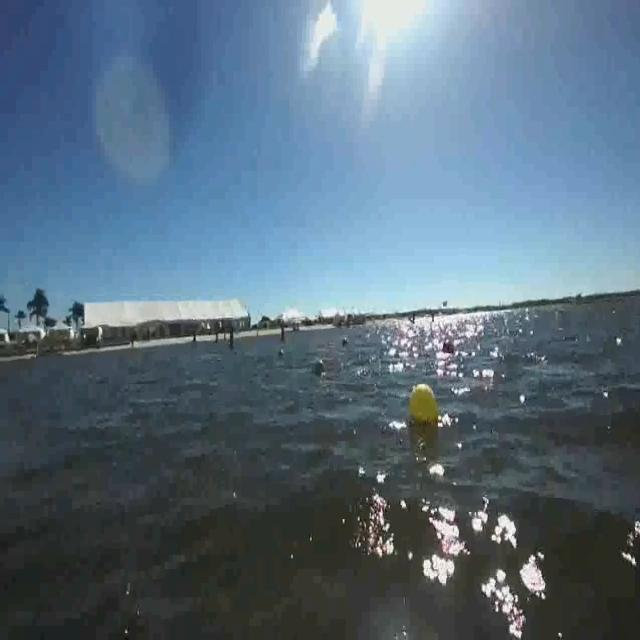yellow-buoy: (406, 380, 441, 428)
